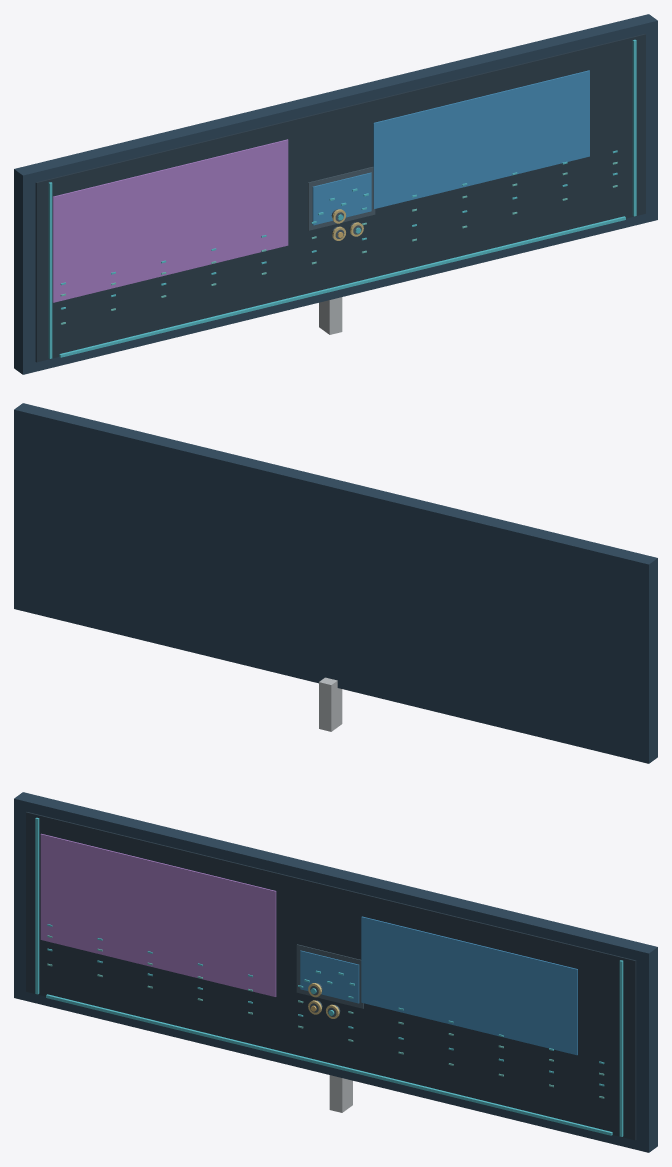
File: 69_L83_OrbitalPowerSCADA.glb
3 renders of one model, top to bottom at view 1: azimuth 30°, elevation 25°; view 2: azimuth 150°, elevation 25°; view 3: azimuth 330°, elevation 25°, orthographic.
Visible parts, largest first — view 1: OrbitalPowerSCADA_Node_0001, OrbitalPowerSCADA_Node_0002, OrbitalPowerSCADA_Node_0000, OrbitalPowerSCADA_Node_0003, OrbitalPowerSCADA_Node_0054, OrbitalPowerSCADA_Node_0057, OrbitalPowerSCADA_Node_0056, OrbitalPowerSCADA_Node_0053, OrbitalPowerSCADA_Node_0052, OrbitalPowerSCADA_Node_0055; view 2: OrbitalPowerSCADA_Node_0000, OrbitalPowerSCADA_Node_0055; view 3: OrbitalPowerSCADA_Node_0001, OrbitalPowerSCADA_Node_0002, OrbitalPowerSCADA_Node_0000, OrbitalPowerSCADA_Node_0003, OrbitalPowerSCADA_Node_0054, OrbitalPowerSCADA_Node_0057, OrbitalPowerSCADA_Node_0056, OrbitalPowerSCADA_Node_0052, OrbitalPowerSCADA_Node_0053, OrbitalPowerSCADA_Node_0055.
Boxes of the visible parts, left/top/right/bottom form: OrbitalPowerSCADA_Node_0001: left=35, top=34, right=645, bottom=362; OrbitalPowerSCADA_Node_0002: left=52, top=139, right=288, bottom=302; OrbitalPowerSCADA_Node_0000: left=14, top=14, right=657, bottom=374; OrbitalPowerSCADA_Node_0003: left=373, top=70, right=589, bottom=208; OrbitalPowerSCADA_Node_0054: left=59, top=216, right=625, bottom=357; OrbitalPowerSCADA_Node_0057: left=312, top=172, right=371, bottom=225; OrbitalPowerSCADA_Node_0056: left=308, top=167, right=375, bottom=230; OrbitalPowerSCADA_Node_0053: left=632, top=39, right=636, bottom=216; OrbitalPowerSCADA_Node_0052: left=48, top=182, right=52, bottom=358; OrbitalPowerSCADA_Node_0055: left=319, top=297, right=342, bottom=334; OrbitalPowerSCADA_Node_0000: left=14, top=403, right=657, bottom=763; OrbitalPowerSCADA_Node_0055: left=319, top=677, right=342, bottom=731; OrbitalPowerSCADA_Node_0001: left=26, top=812, right=636, bottom=1140; OrbitalPowerSCADA_Node_0002: left=40, top=833, right=276, bottom=996; OrbitalPowerSCADA_Node_0000: left=14, top=792, right=657, bottom=1152; OrbitalPowerSCADA_Node_0003: left=361, top=916, right=577, bottom=1055; OrbitalPowerSCADA_Node_0054: left=46, top=994, right=612, bottom=1135; OrbitalPowerSCADA_Node_0057: left=300, top=950, right=359, bottom=1003; OrbitalPowerSCADA_Node_0056: left=296, top=944, right=363, bottom=1008; OrbitalPowerSCADA_Node_0052: left=35, top=817, right=39, bottom=994; OrbitalPowerSCADA_Node_0053: left=619, top=960, right=623, bottom=1136; OrbitalPowerSCADA_Node_0055: left=329, top=1075, right=352, bottom=1112.
Bounding box in the file's own units: 6.1 × 2.19 × 0.4105.
